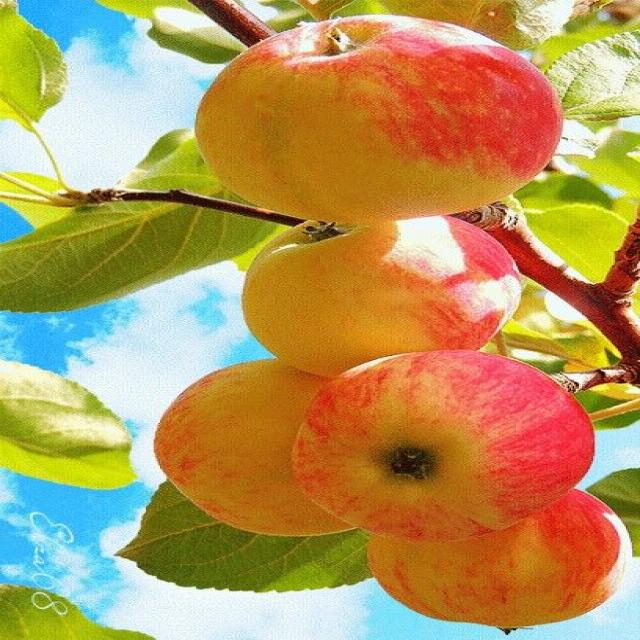Tao: (192, 15, 552, 217), (294, 352, 604, 546), (236, 213, 510, 372), (358, 490, 619, 628), (143, 361, 352, 533)
